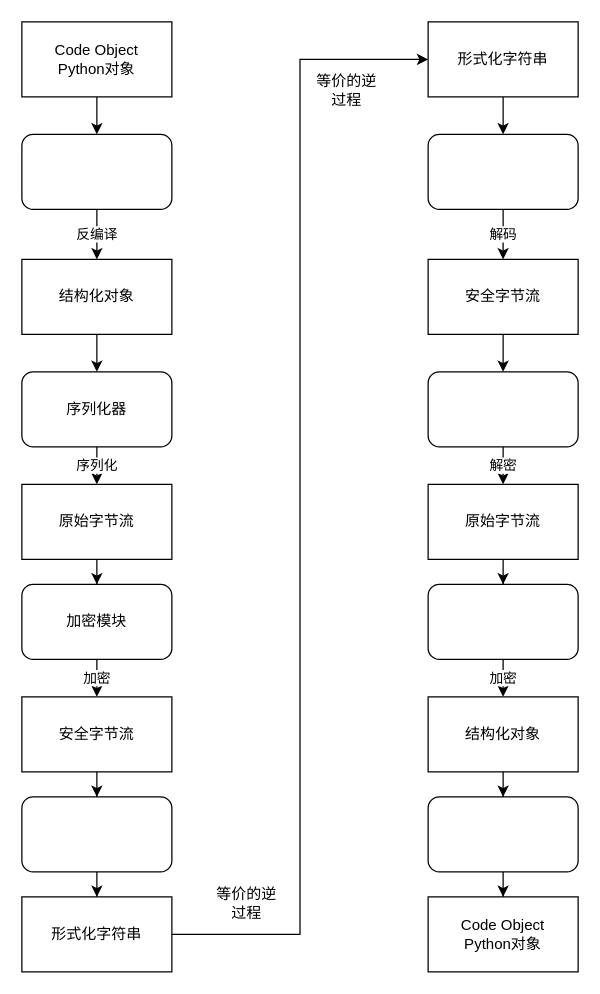
Image size: 600x994. Some labels were removed from this diagram. Each missing label, with the centre of its shape:
"反序列化器" belongs at (x=502, y=621).
"字节码反编译器" belongs at (x=96, y=171).
"编码器" belongs at (x=96, y=834).
"编译器" belongs at (x=502, y=834).
"解密模块" belongs at (x=502, y=409).
"解码器" belongs at (x=502, y=171).
